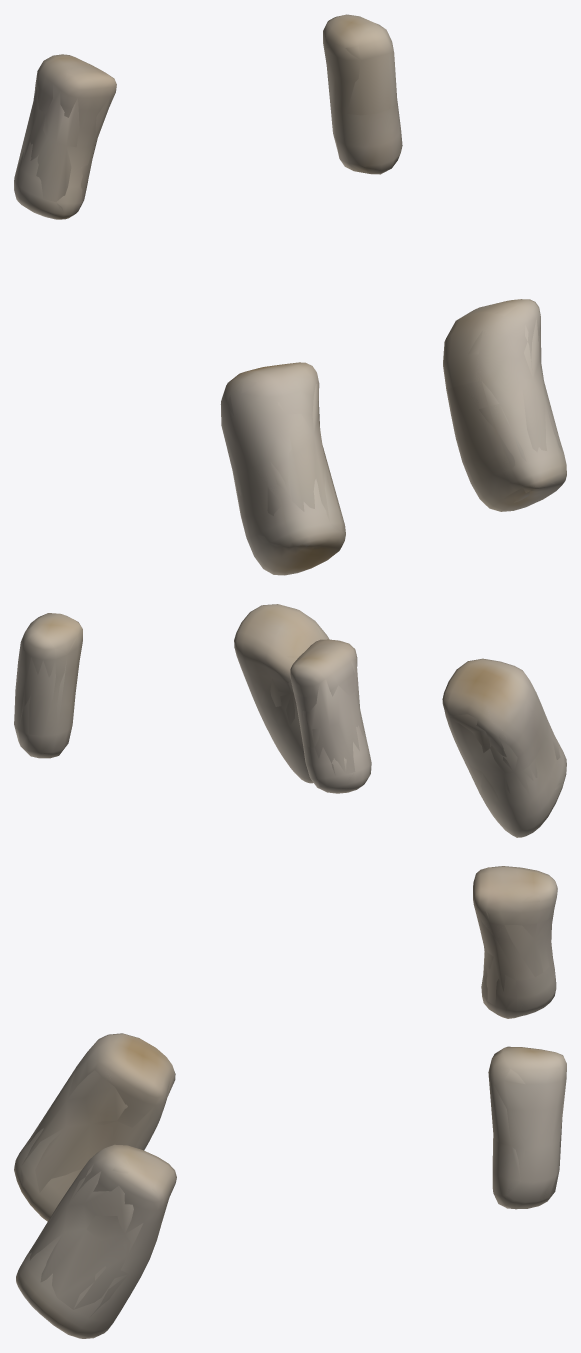
File: BR 2nd Phalanx.fbx
3 views of the same model, one above another, from view 1: azimuth 30°, elevation 25°; view 2: azimuth 150°, elevation 25°; view 3: azimuth 270°, elevation 25° (orthographic). The views are drawn at different scales.
Visible parts, largest first — view 1: BR 2nd Phalanx, BR 2nd Phalanx low; view 2: BR 2nd Phalanx, BR 2nd Phalanx low; view 3: BR 2nd Phalanx, BR 2nd Phalanx low.
Part boxes in pixels (x1,y1,x2,y2): BR 2nd Phalanx: (14,14,566,575); BR 2nd Phalanx low: (15,23,562,570); BR 2nd Phalanx: (14,604,566,837); BR 2nd Phalanx low: (18,605,566,825); BR 2nd Phalanx: (14,866,566,1338); BR 2nd Phalanx low: (20,884,566,1338).
Size of the model in its own units: 3.43 by 3.08 by 4.29.
